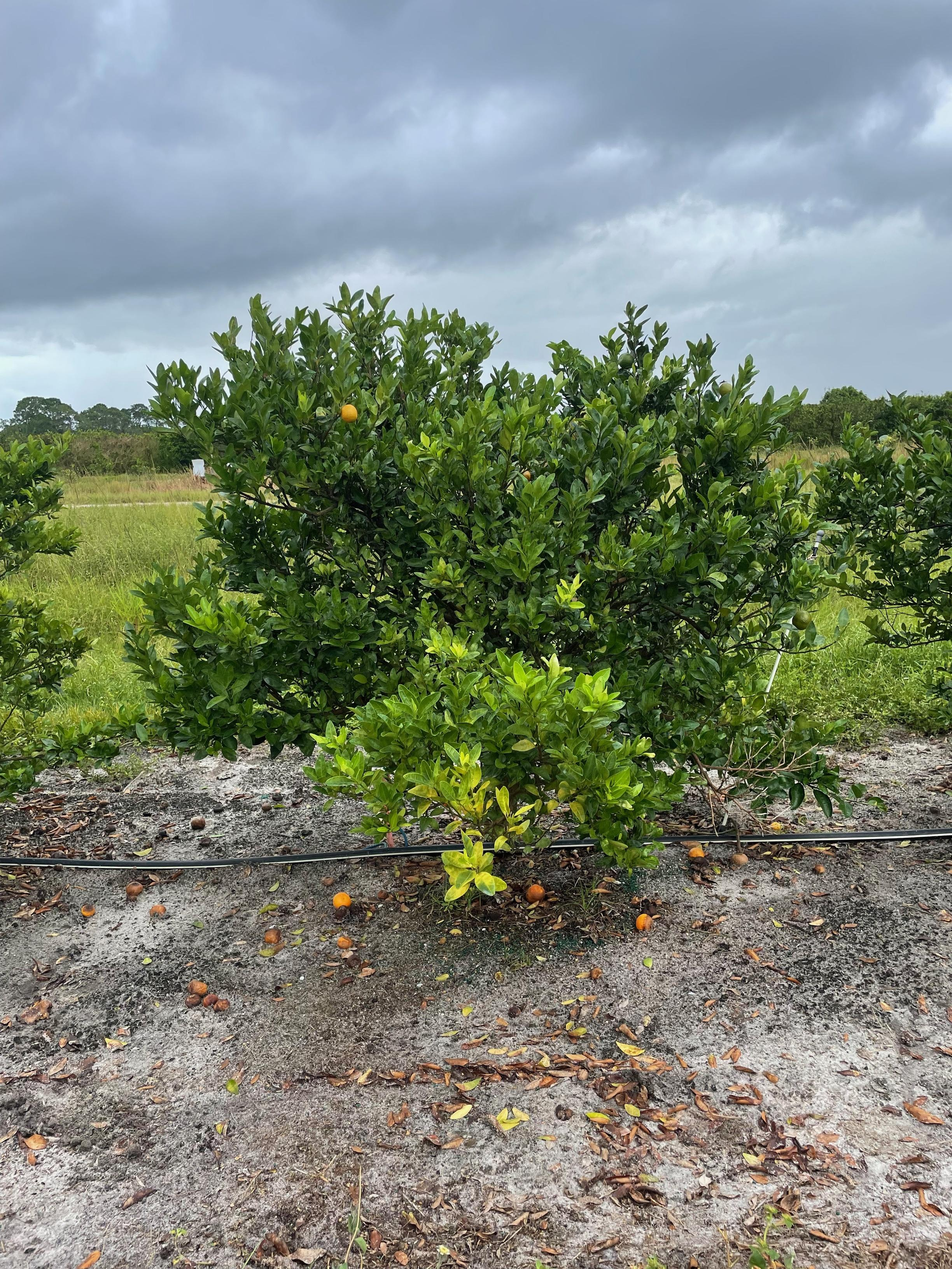fruit_on_ground: (790, 608, 814, 632), (338, 403, 359, 424), (617, 351, 635, 370), (718, 381, 735, 398)
fruit_on_tree: (523, 881, 547, 904), (634, 911, 656, 933), (262, 926, 284, 946), (331, 889, 353, 909), (184, 991, 206, 1010), (187, 977, 208, 996), (210, 997, 231, 1014), (124, 881, 145, 898), (729, 850, 749, 867), (685, 843, 706, 859), (148, 901, 167, 918), (335, 933, 354, 949), (202, 992, 219, 1009), (79, 902, 96, 918), (190, 814, 208, 829), (259, 799, 273, 812)
